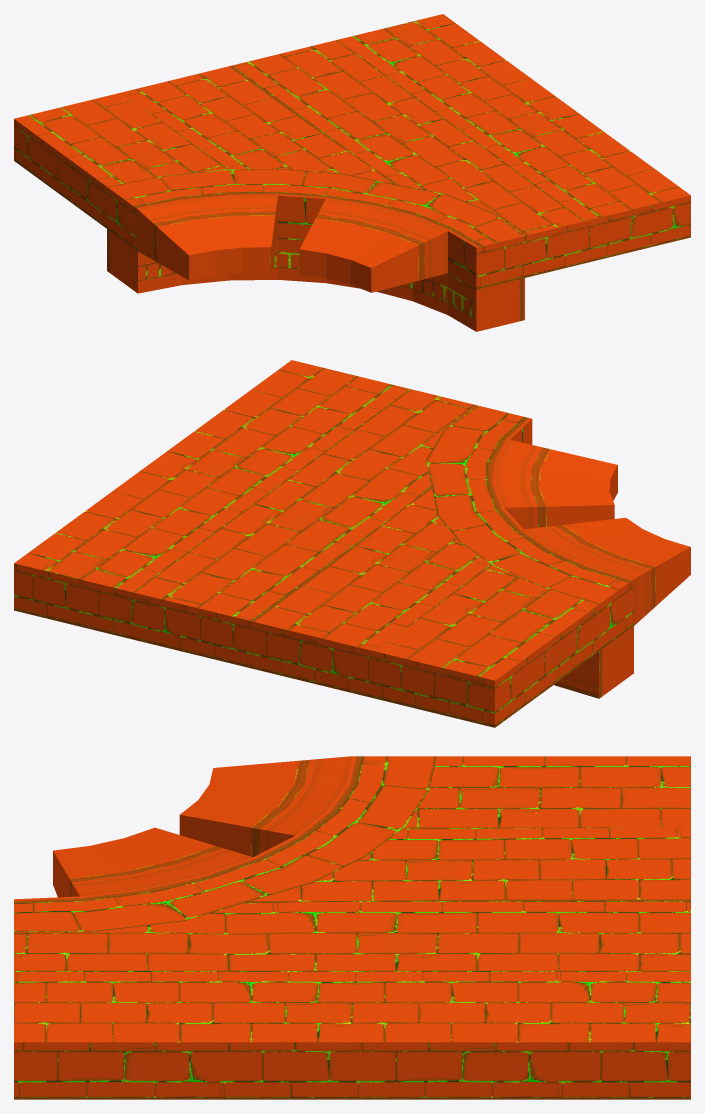
The model's file is Ceiling Centre.fbx.
The picture shows the model from 3 angles, top to bottom: view 1: azimuth 30°, elevation 25°; view 2: azimuth 150°, elevation 25°; view 3: azimuth 270°, elevation 25°; orthographic projection. The views are drawn at different scales.
Visible parts, largest first — view 1: pPipe2; view 2: pPipe2; view 3: pPipe2.
Boxes of the visible parts, x1=… form: pPipe2: x1=14, y1=14, x2=690, y2=331; pPipe2: x1=14, y1=360, x2=690, y2=727; pPipe2: x1=14, y1=756, x2=690, y2=1099.
Size of the model in its own units: 400 by 75 by 400.
